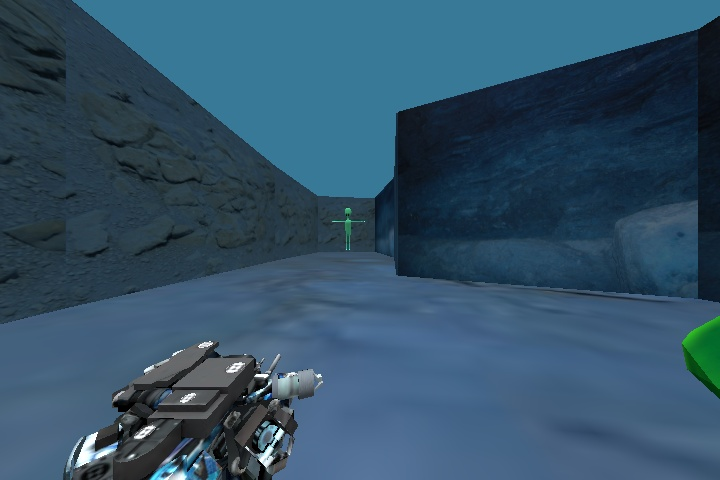green_alien: (321, 201, 377, 257)
